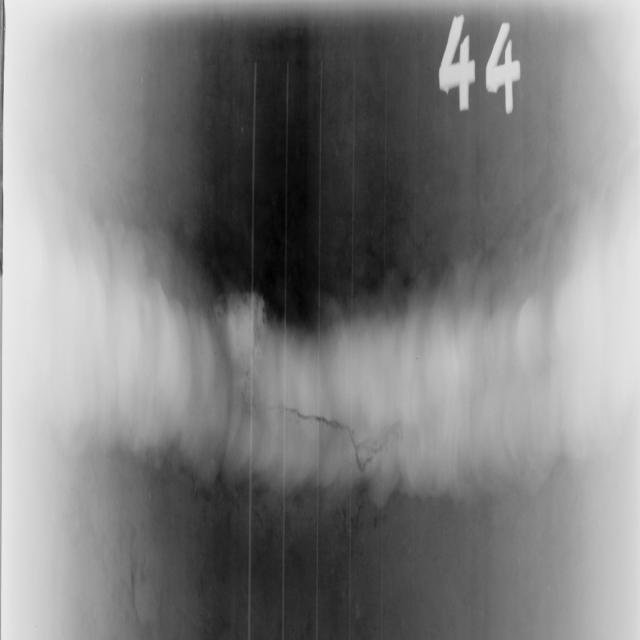IE: (196, 484, 390, 583), (207, 276, 267, 404)
TR: (259, 387, 407, 479)
